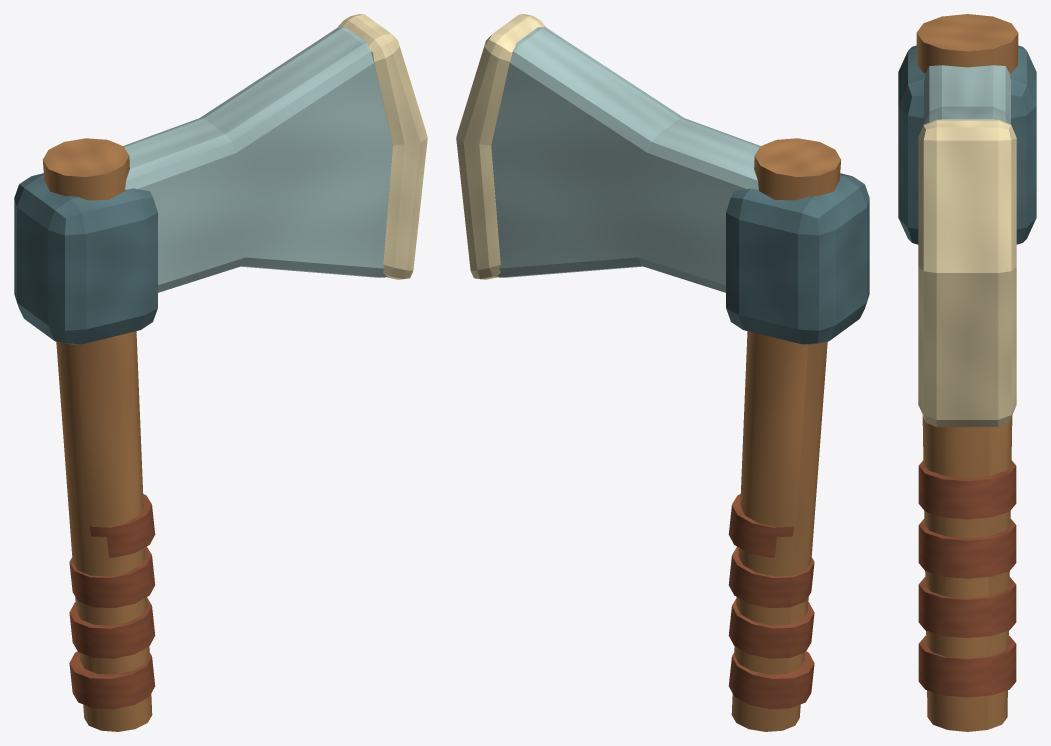
Rendered from axe-simple.glb.
3 views of the same model, side by side, from view 1: azimuth 30°, elevation 25°; view 2: azimuth 150°, elevation 25°; view 3: azimuth 270°, elevation 25° (orthographic). The views are drawn at different scales.
Parts seen in each view (by area): view 1: axe-simple-mesh; view 2: axe-simple-mesh; view 3: axe-simple-mesh.
Boxes of the visible parts, x1,y1,x2,y2 form: axe-simple-mesh: (14, 14, 427, 731); axe-simple-mesh: (456, 14, 869, 731); axe-simple-mesh: (898, 14, 1036, 731).
Bounding box in the file's own units: 0.71 × 1.13 × 0.19.
Materials: 1 (1 with a texture image).
